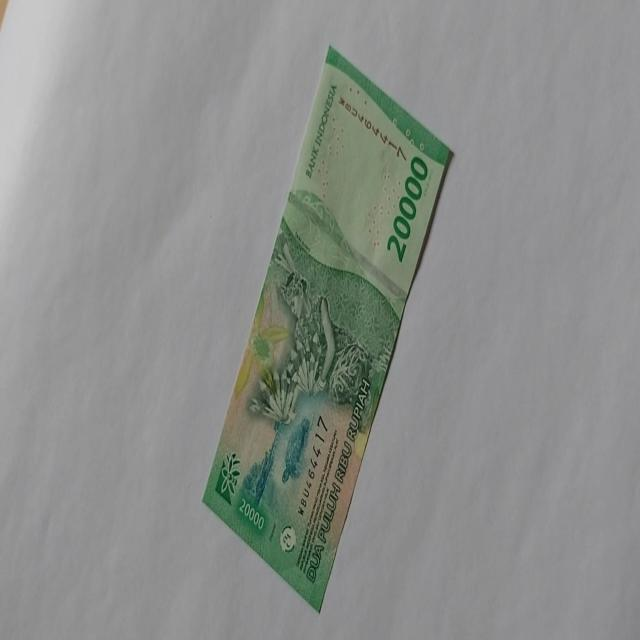dua puluh ribu rupiah: (200, 42, 454, 612), (242, 239, 374, 506)
